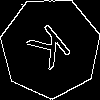K: (25, 22, 79, 78)
